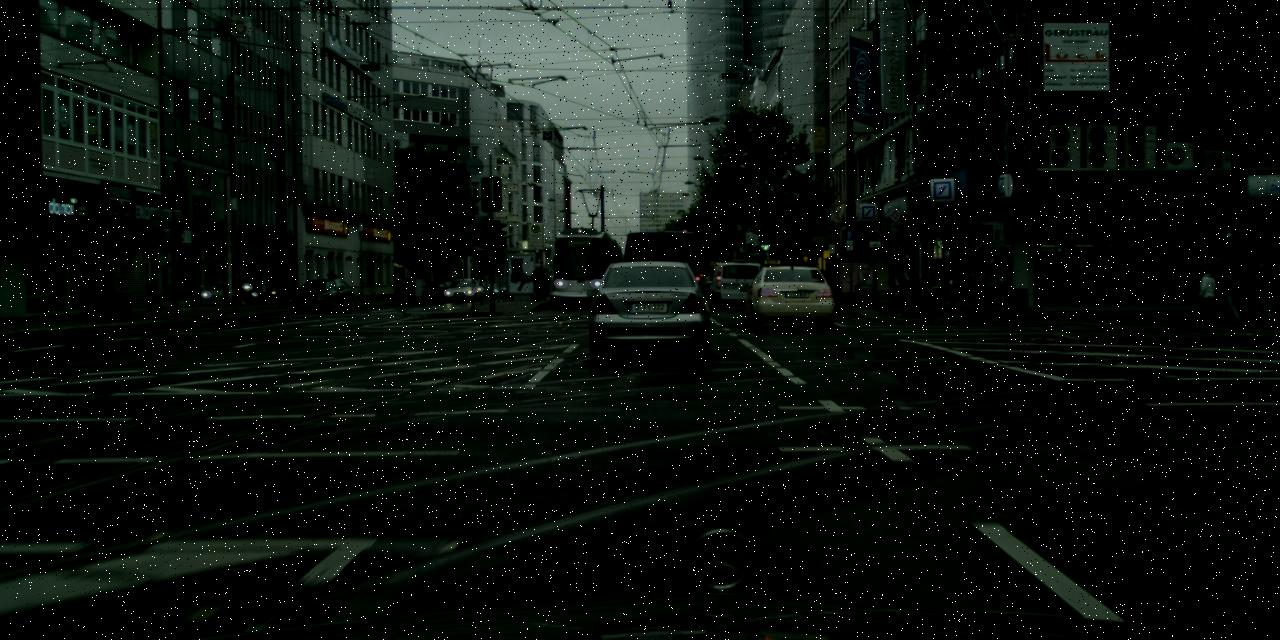ped: (1206, 253, 1236, 325), (1247, 255, 1276, 326), (886, 260, 912, 318), (1194, 266, 1219, 326), (531, 260, 553, 300), (328, 269, 339, 296)
